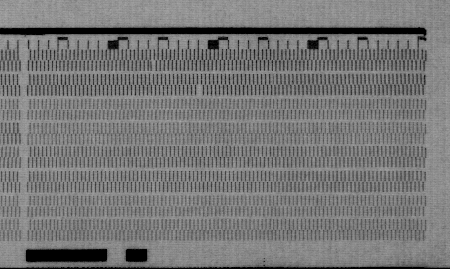Broken hole: (194, 84, 207, 96)
Oblique printing: (147, 60, 159, 74)
